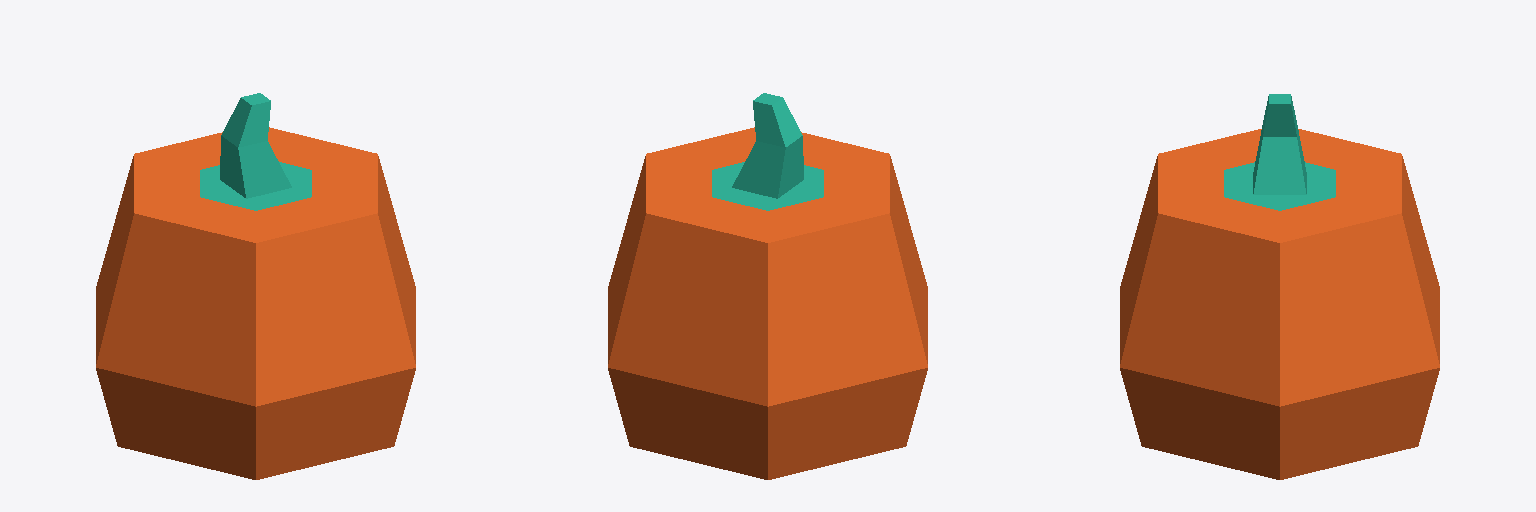
Rendered from pumpkinTall.obj.
3 renders of one model, left to right at view 1: azimuth 30°, elevation 25°; view 2: azimuth 150°, elevation 25°; view 3: azimuth 270°, elevation 25°, orthographic.
Visible parts, largest first — view 1: pumpkinTall; view 2: pumpkinTall; view 3: pumpkinTall.
Part boxes in pixels (x1,y1,x2,y2): pumpkinTall: (96, 93, 415, 479); pumpkinTall: (608, 93, 927, 479); pumpkinTall: (1120, 94, 1439, 479).
Bounding box in the file's own units: 0.2784 × 0.26 × 0.2411.